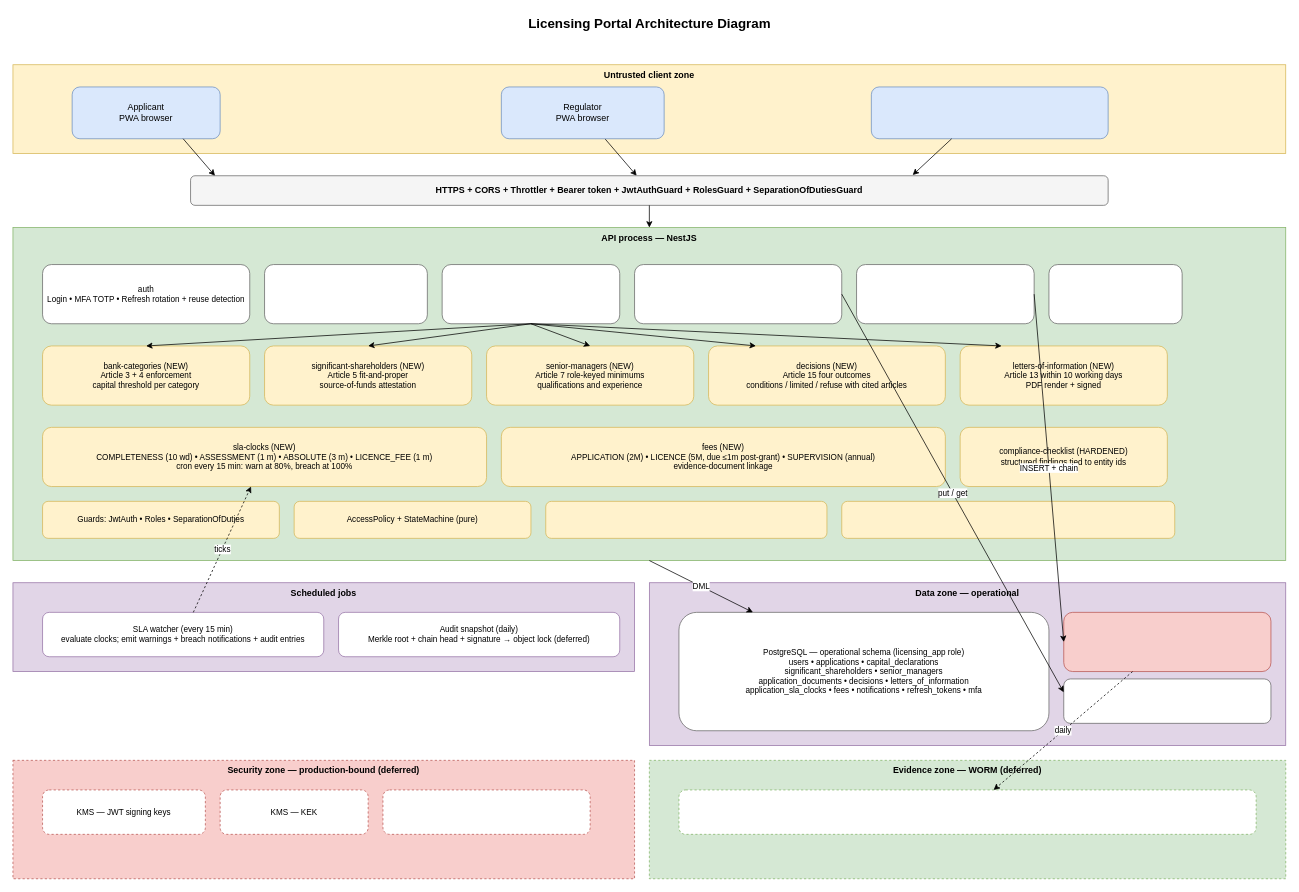
This 1299x892 diagram has some shape labels left out. The shapes that lost their labels are listed below. From the top down, each one's centre as x and y in pixels, then its label:
[989,112]: Regulator desktop Electron, signed, sandboxed, contextIsolation
[345,294]: users Admin user CRUD • Profile
[530,294]: applications State machine • Optimistic locking • Queues
[738,294]: documents Upload (5 MB cap, MIME sniff) • Versioning • Encryption
[945,294]: audit Hash chain • Verifier • Daily snapshot job
[1115,294]: notifications In-app inbox
[686,519]: Canonicaliser RFC 8785 • KeyProvider • KekProvider
[1008,519]: Pino + redactor + correlation id • Prometheus metrics + /healthz
[1167,642]: application_audit (append-only) DB role + trigger + hash chain
[1167,700]: EncryptedLocalStorage (AES-256-GCM) envelope encryption, KEK-wrapped DEKs
[486,811]: KMS — Snapshot signer
[967,811]: Daily signed snapshot → object-locked storage WORM + 7-year retention
